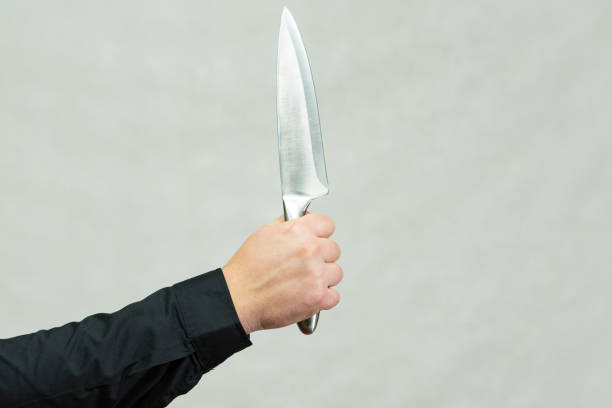knife: (274, 2, 331, 337)
